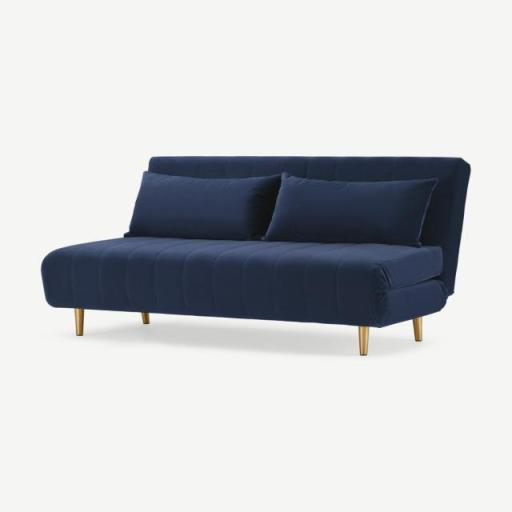sofa: (62, 99, 508, 383)
